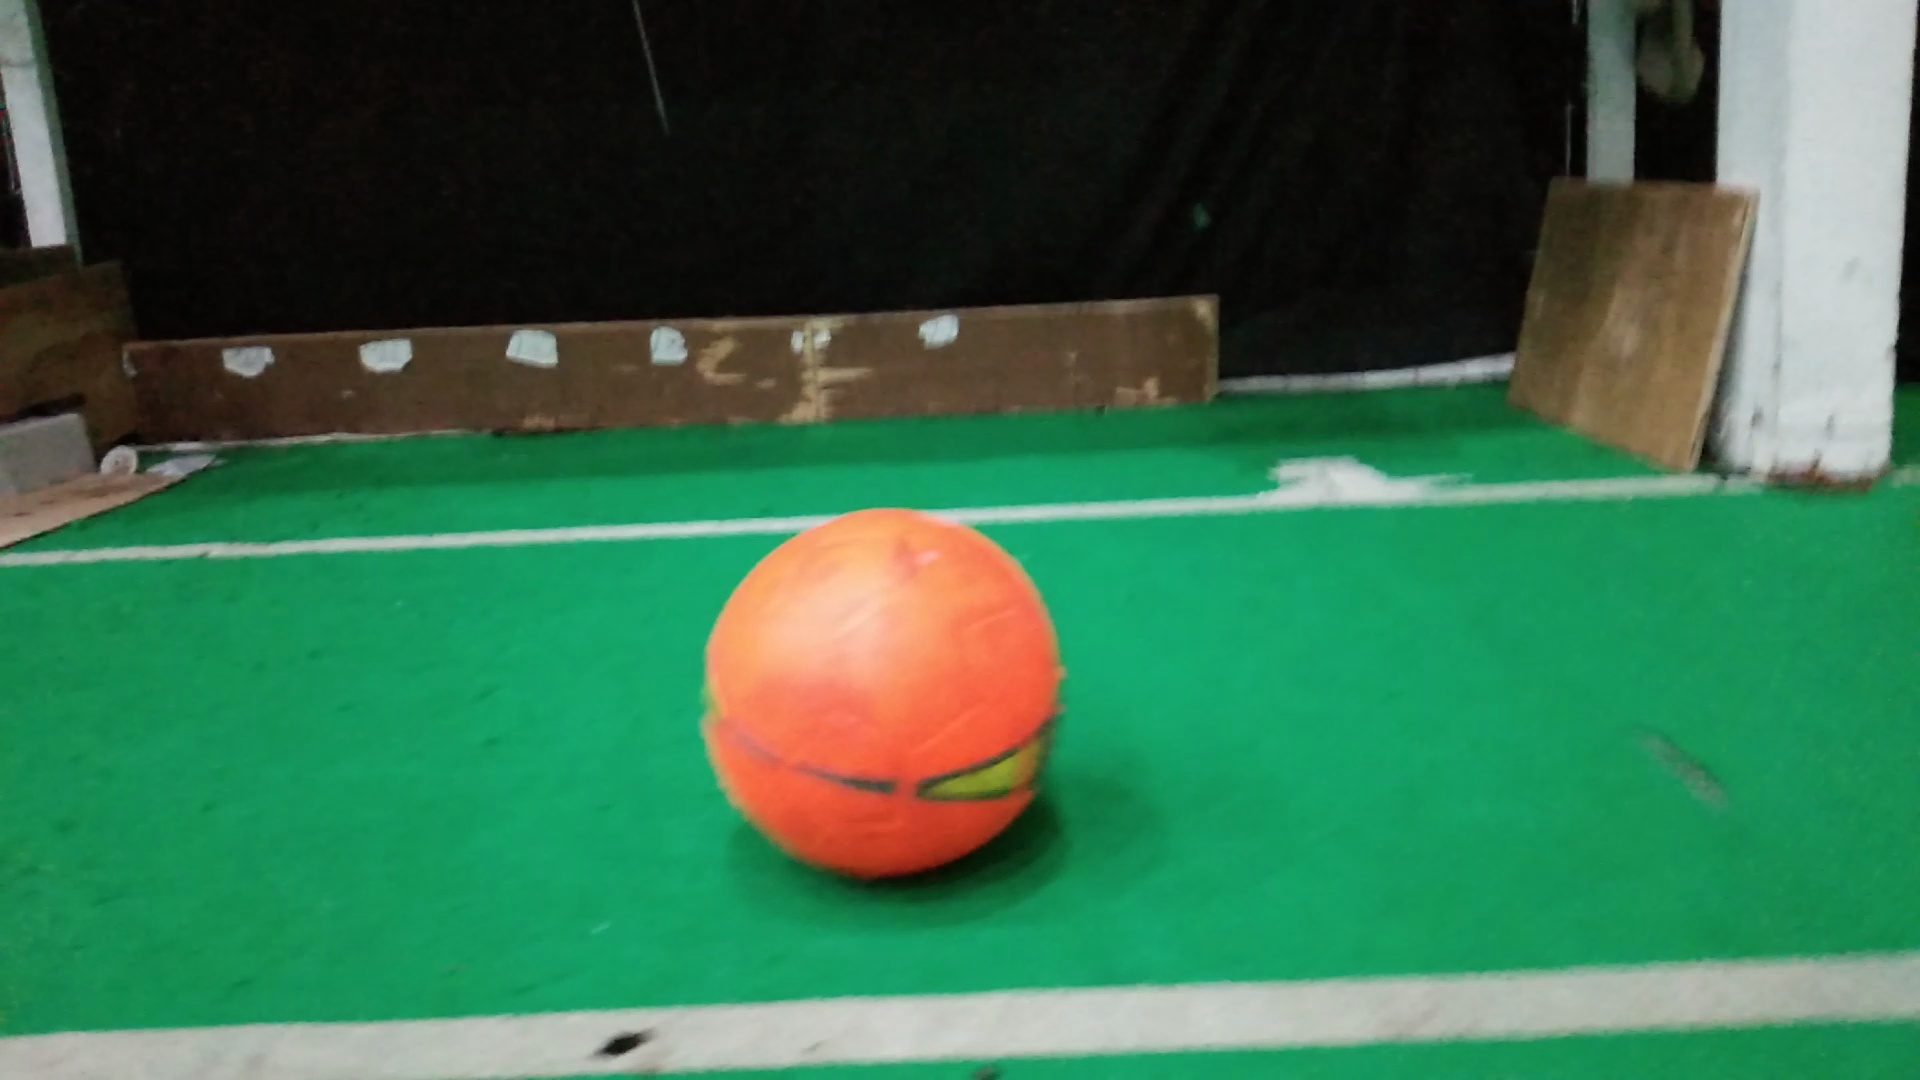bola: (698, 491, 1072, 890)
